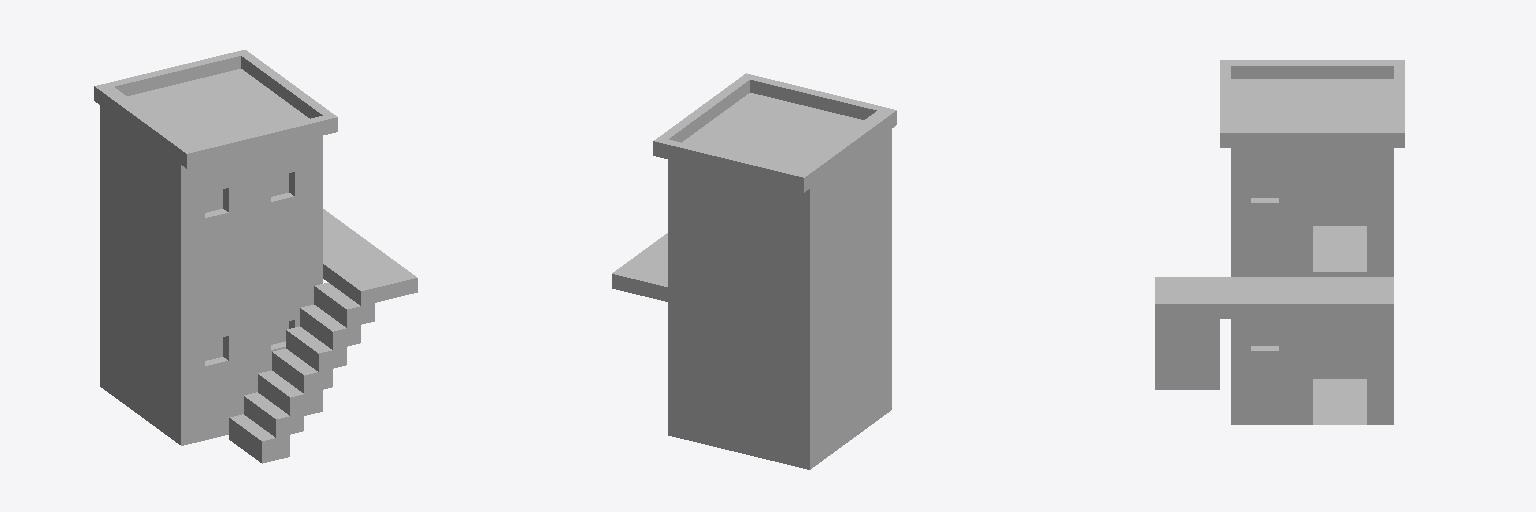
File: 01Dubleks.obj
The picture shows the model from 3 angles: view 1: azimuth 30°, elevation 25°; view 2: azimuth 150°, elevation 25°; view 3: azimuth 270°, elevation 25°; orthographic projection.
Visible parts, largest first — view 1: Group; view 2: Group; view 3: Group.
Boxes of the visible parts, box(x1,y1,x2,y2) form: Group: box(94, 50, 417, 463); Group: box(612, 73, 896, 469); Group: box(1155, 60, 1404, 424).
Bounding box in the file's own units: 6.3 × 9 × 6.9.